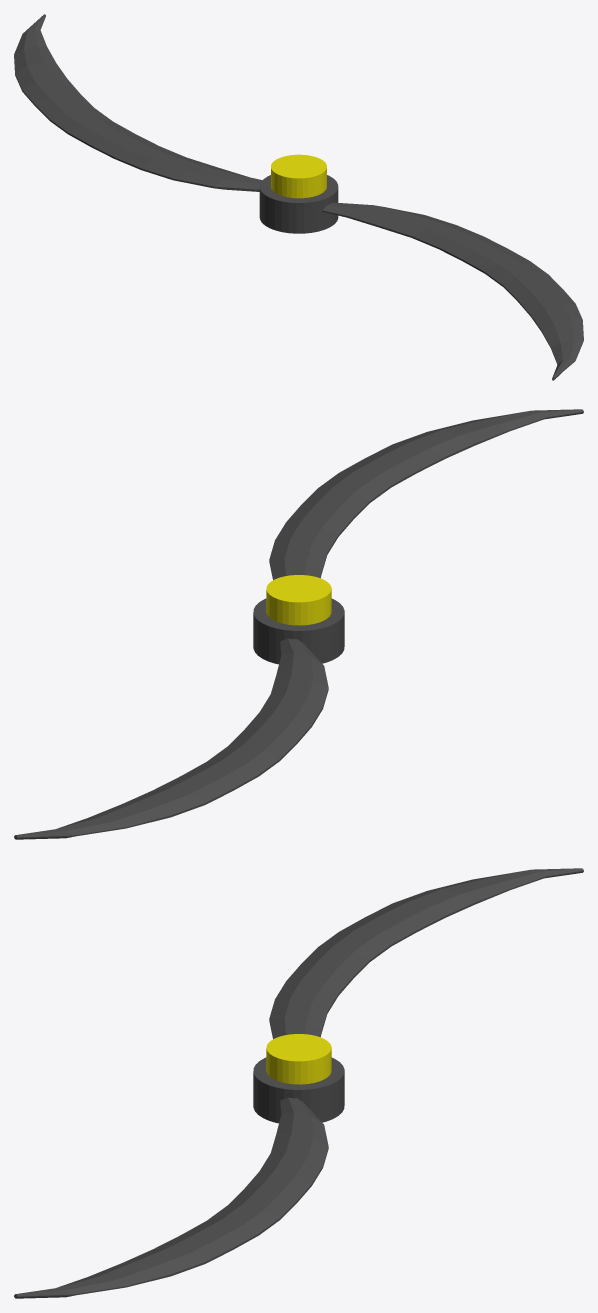
File: rotary_sickle.fbx
3 renders of one model, top to bottom at view 1: azimuth 30°, elevation 25°; view 2: azimuth 150°, elevation 25°; view 3: azimuth 330°, elevation 25°, orthographic. The views are drawn at different scales.
Visible parts, largest first — view 1: 立方体, 円柱, 円柱.001; view 2: 立方体, 円柱, 円柱.001; view 3: 立方体, 円柱, 円柱.001.
Boxes of the visible parts, x1,y1,x2,y2 form: 立方体: (14, 14, 583, 380); 円柱: (259, 175, 338, 233); 円柱.001: (271, 154, 326, 198); 立方体: (14, 409, 583, 839); 円柱: (253, 598, 344, 664); 円柱.001: (266, 575, 331, 625); 立方体: (14, 868, 583, 1298); 円柱: (253, 1057, 344, 1123); 円柱.001: (266, 1034, 331, 1084).
Size of the model in its own units: 4.41 by 0.99 by 17.71.
